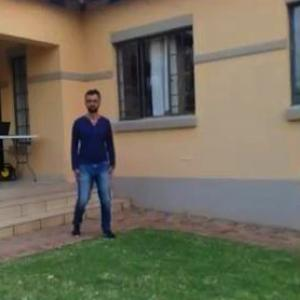follow: (69, 81, 118, 249)
